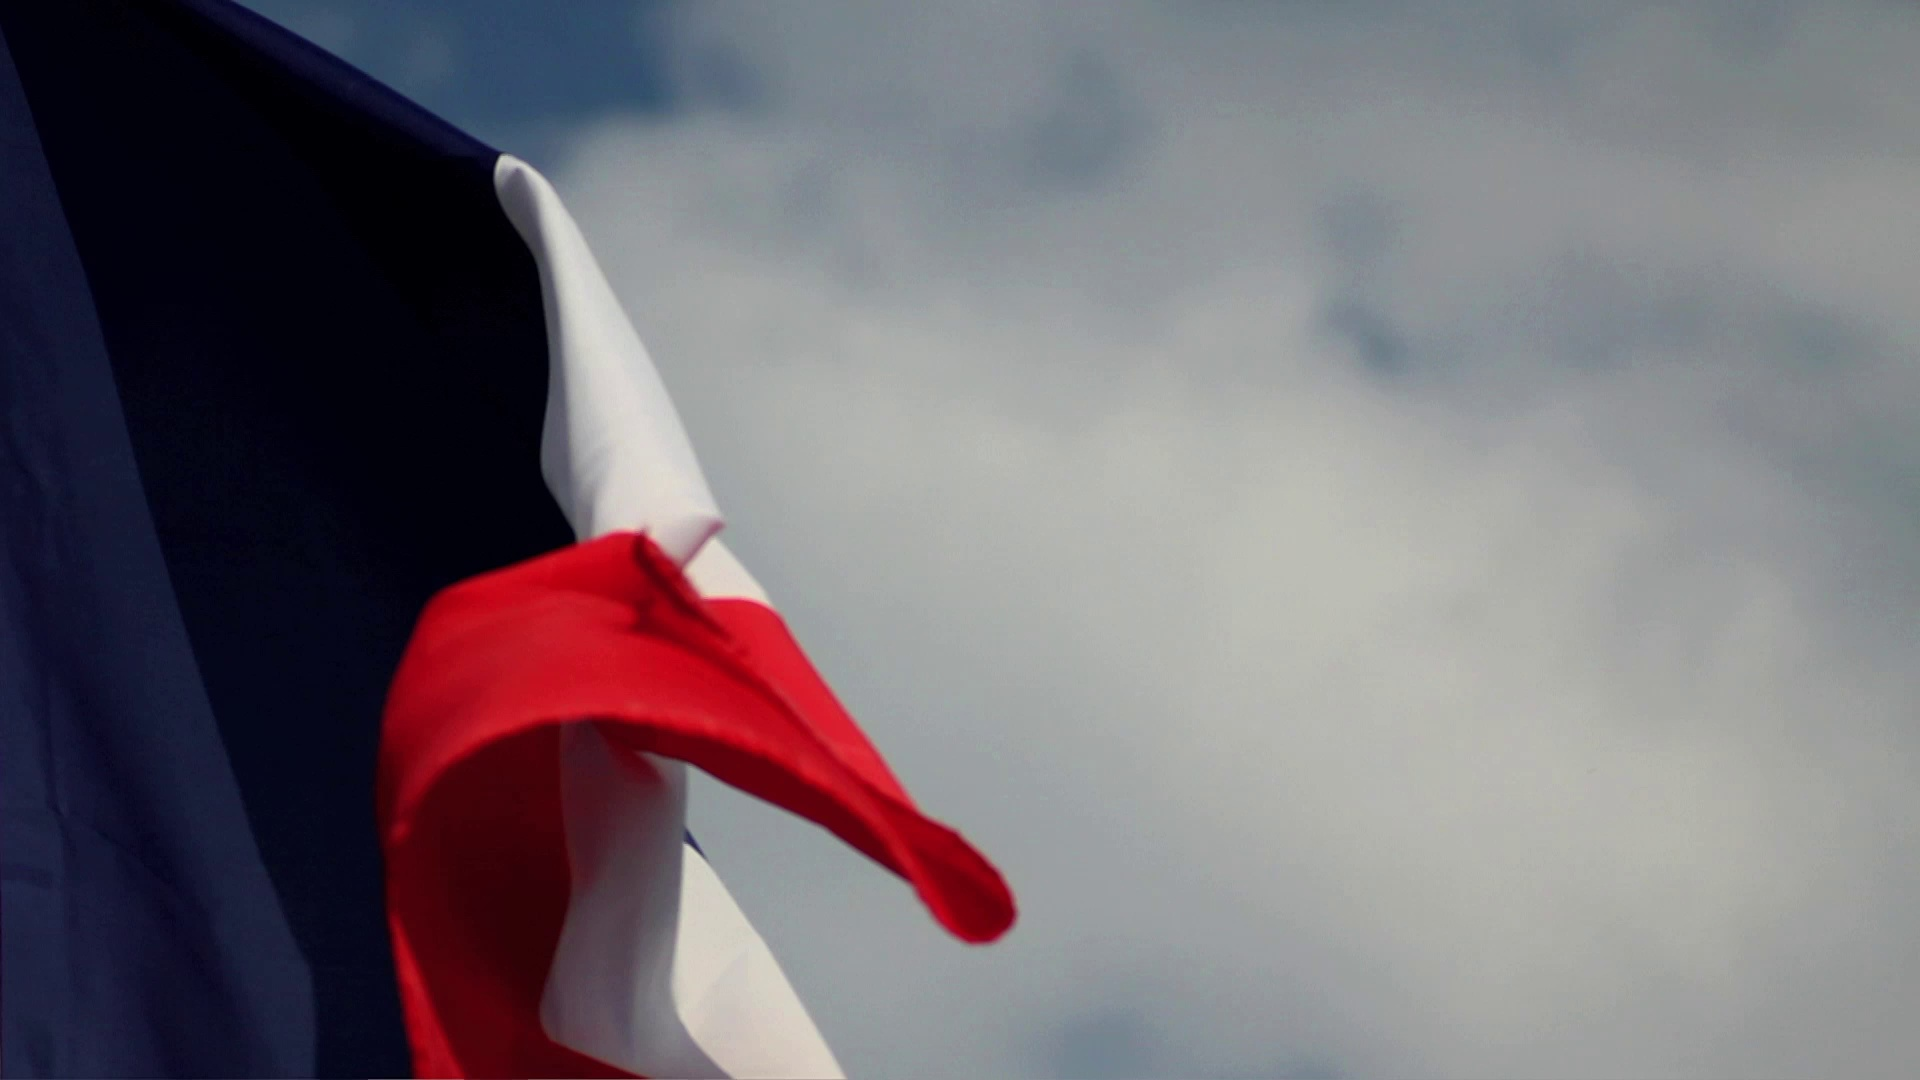French Flag: (1, 1, 1015, 1080)
